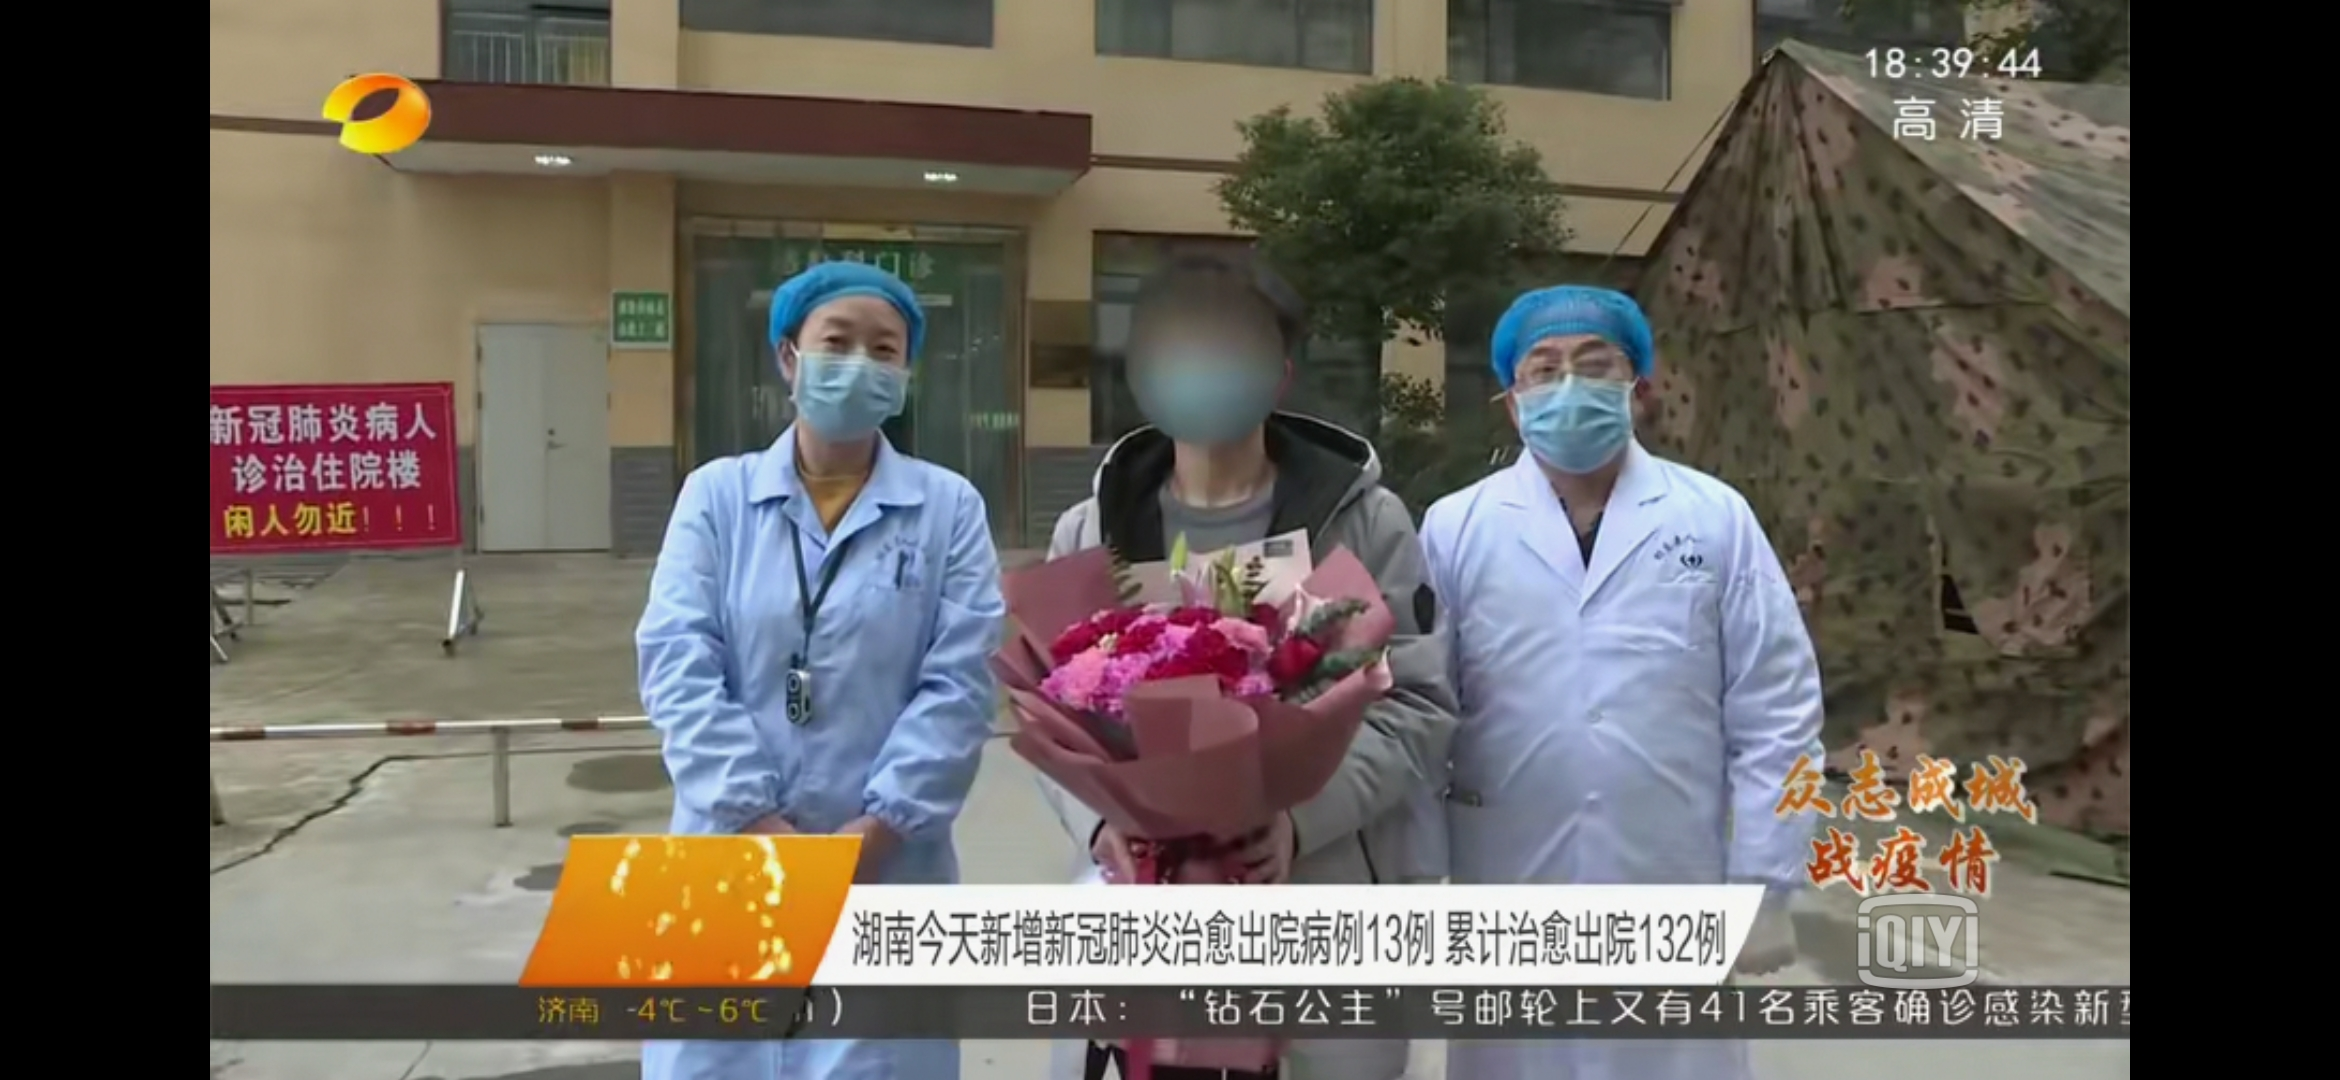correctlyWear: (1495, 333, 1649, 474), (775, 324, 916, 443)
